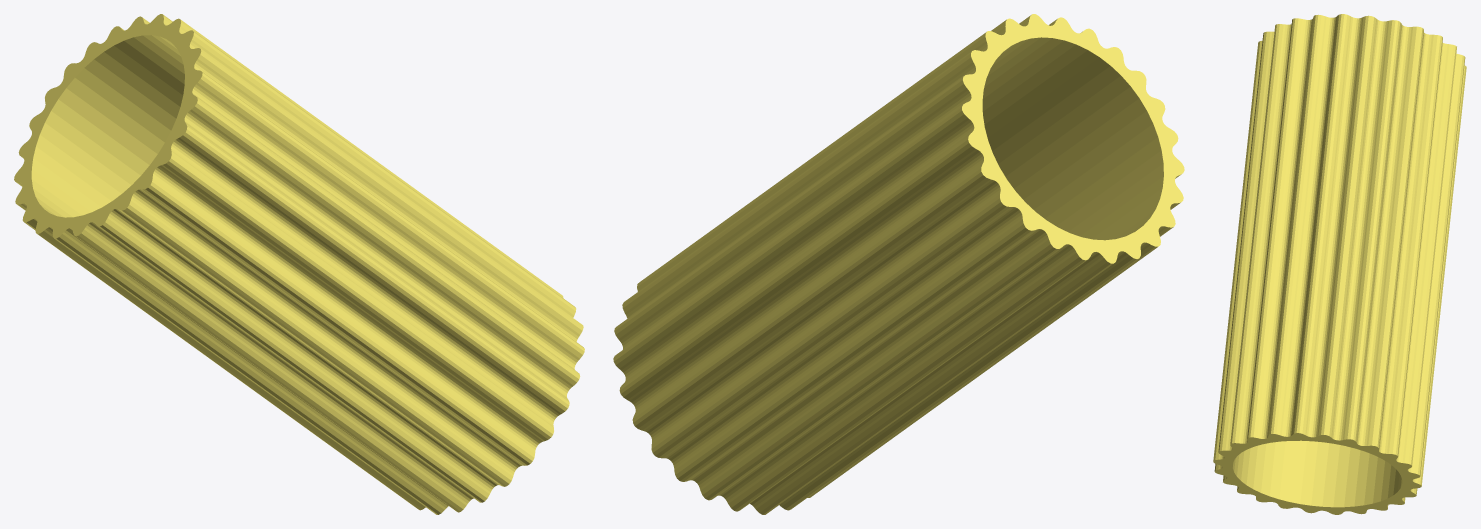
Rendered from Rigatoni.gltf.
The picture shows the model from 3 angles, left to right: view 1: azimuth 30°, elevation 25°; view 2: azimuth 150°, elevation 25°; view 3: azimuth 270°, elevation 25°; orthographic projection. The views are drawn at different scales.
Parts seen in each view (by area): view 1: Rigatoni; view 2: Rigatoni; view 3: Rigatoni.
Part boxes in pixels (x1=…): Rigatoni: x1=14, y1=14, x2=584, y2=514; Rigatoni: x1=613, y1=14, x2=1184, y2=514; Rigatoni: x1=1213, y1=14, x2=1466, y2=514.
Size of the model in its own units: 1.76 by 1.7 by 0.9355.
